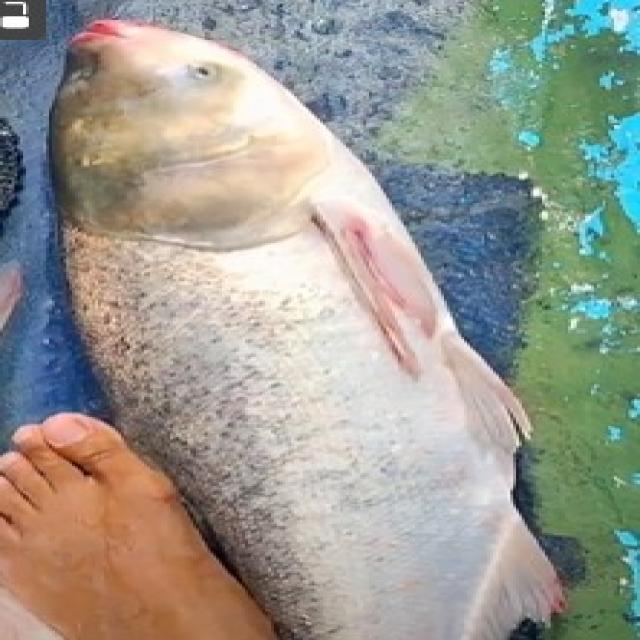Big-Head-Carp: (70, 8, 564, 640)
